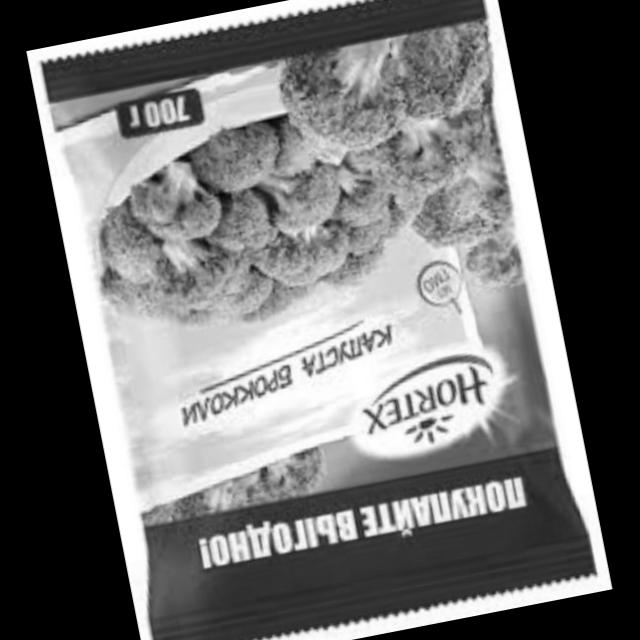broccoli: (75, 94, 396, 336), (305, 0, 543, 299)
